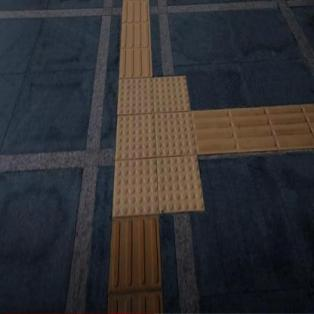Podoctatil: (94, 50, 220, 238), (199, 103, 314, 156), (109, 220, 164, 313), (117, 0, 153, 78)
